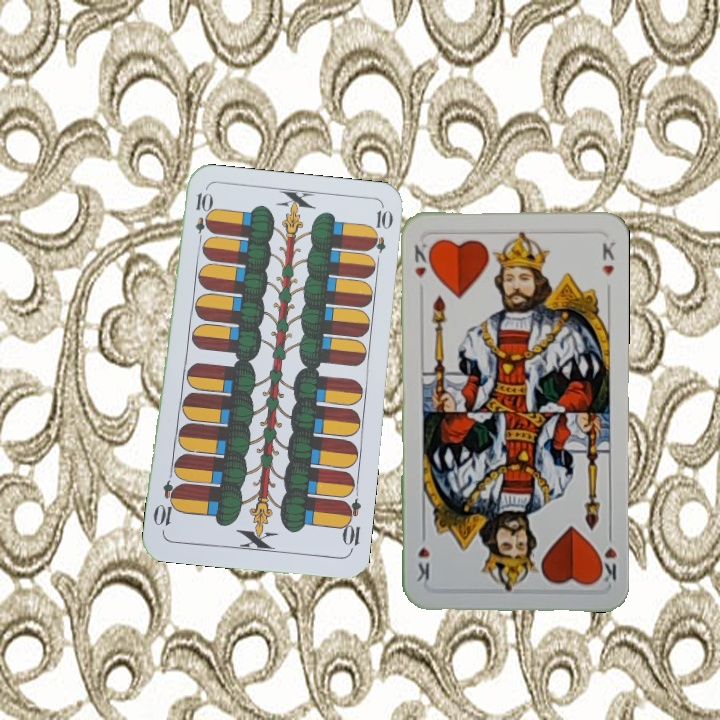E10: (337, 495, 363, 555), (191, 189, 211, 248)
HK: (593, 527, 619, 586), (411, 239, 435, 280)
